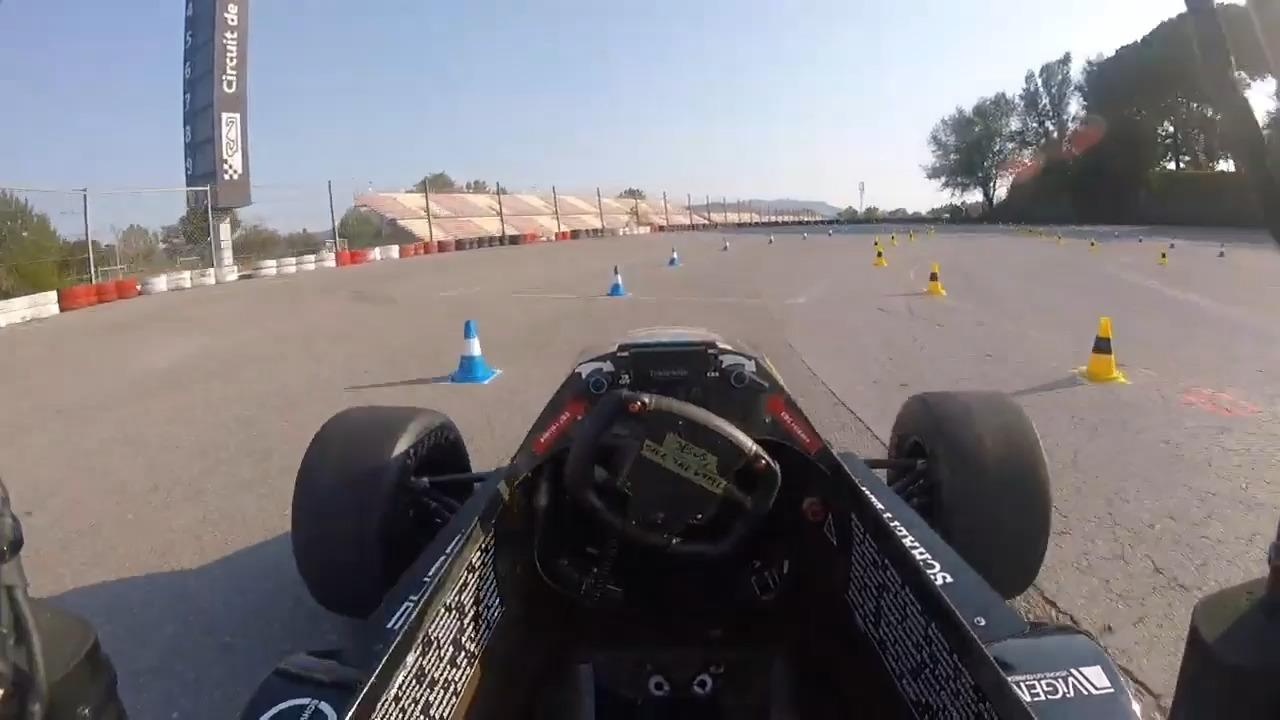blue_cone: (442, 314, 497, 391), (601, 263, 630, 297), (663, 243, 684, 266), (722, 236, 733, 252)
yellow_cone: (1080, 316, 1126, 384), (926, 266, 952, 300), (874, 244, 887, 267), (1155, 246, 1167, 265), (872, 234, 882, 249), (889, 232, 899, 247), (1089, 239, 1099, 254)
